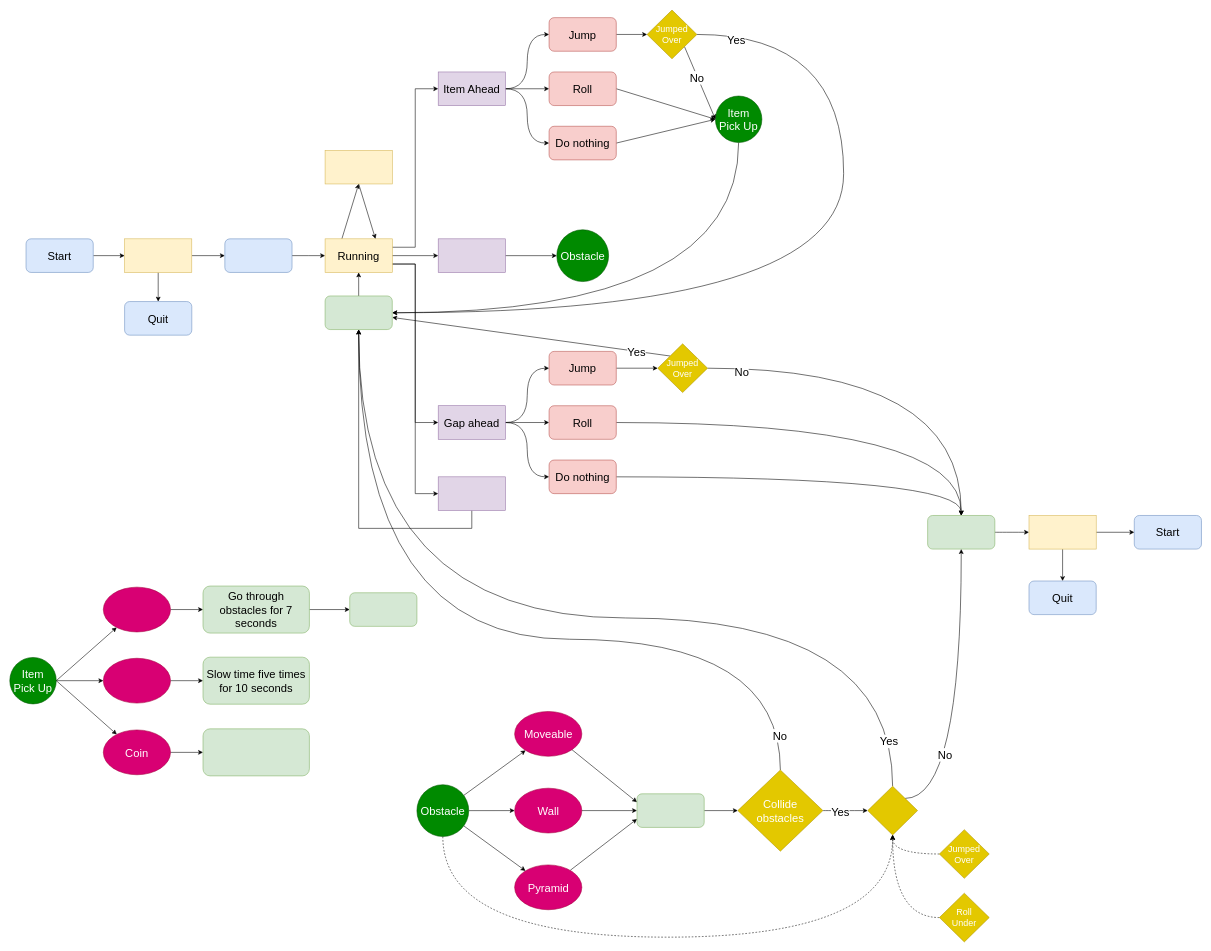
Image size: 1211x951. Some labels were removed from this diagram. Here are the shapes that lost their labels. From the top down, the centre of each, then its label:
[358,167]: Pause
[158,255]: Main Menu
[258,255]: Play game
[471,255]: Obstacle ahead
[358,312]: Score + 1
[471,493]: Nothing ahead
[961,532]: Death
[1062,532]: Game Over
[137,609]: Shield
[383,609]: Set player collision
[137,680]: Slowmo
[255,752]: Add coin
[670,810]: Get player collision
[892,810]: Dodged
